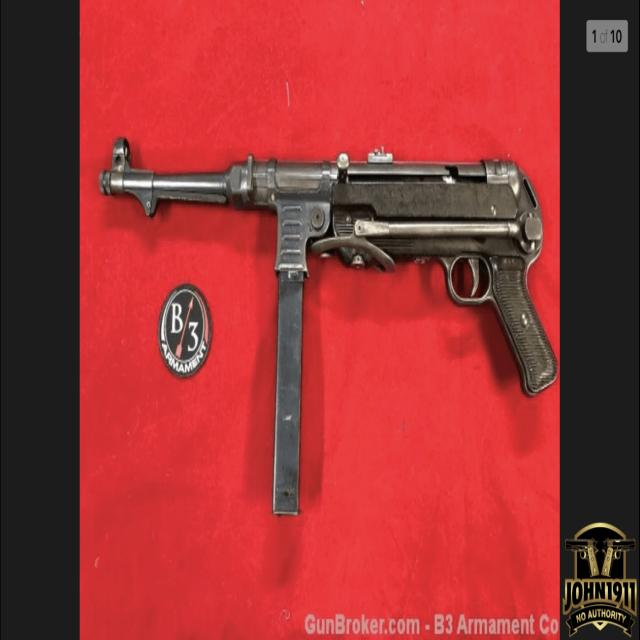SMG: (98, 138, 556, 518)
